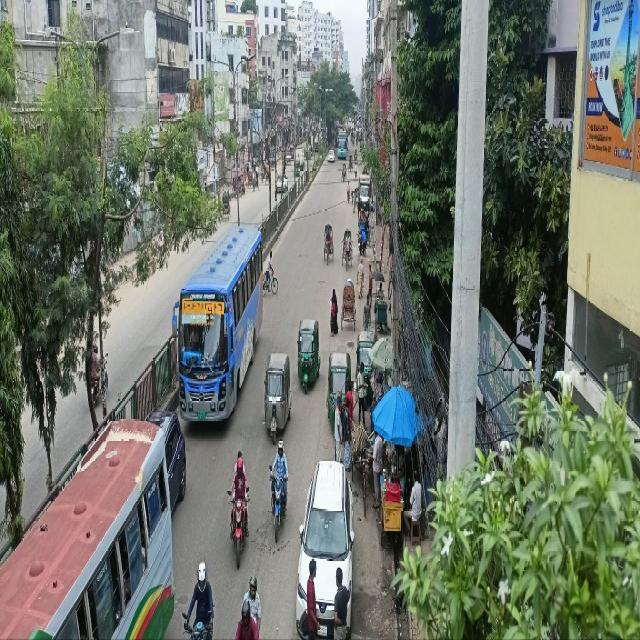people: (306, 559, 321, 640), (333, 566, 349, 639), (372, 430, 383, 510), (332, 393, 343, 465), (356, 362, 368, 427), (342, 396, 352, 473), (346, 378, 358, 427), (329, 285, 339, 335), (363, 292, 372, 333), (358, 256, 366, 301), (368, 263, 373, 307)
vehicle: (0, 418, 175, 640), (172, 222, 263, 424), (296, 458, 356, 638), (141, 406, 187, 516), (227, 449, 250, 568), (181, 559, 214, 640), (264, 351, 292, 446), (268, 440, 290, 546), (327, 350, 351, 438), (297, 317, 321, 394), (235, 574, 262, 640), (356, 329, 378, 407), (374, 272, 389, 334), (263, 248, 279, 297), (341, 278, 356, 330), (358, 207, 372, 248), (341, 228, 354, 272), (358, 174, 372, 211), (323, 220, 334, 267), (336, 130, 348, 161), (357, 228, 368, 259), (341, 162, 347, 182), (346, 180, 351, 202), (328, 146, 334, 163), (353, 148, 359, 164), (349, 154, 353, 172)
